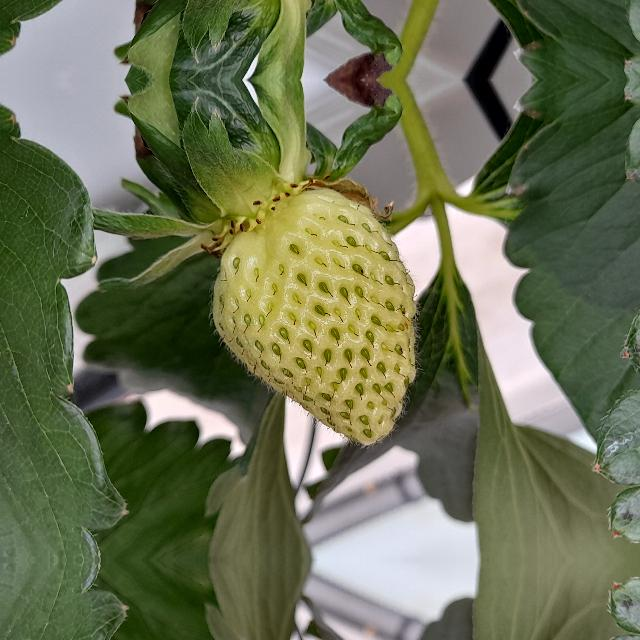Health_25: (212, 189, 416, 445)
